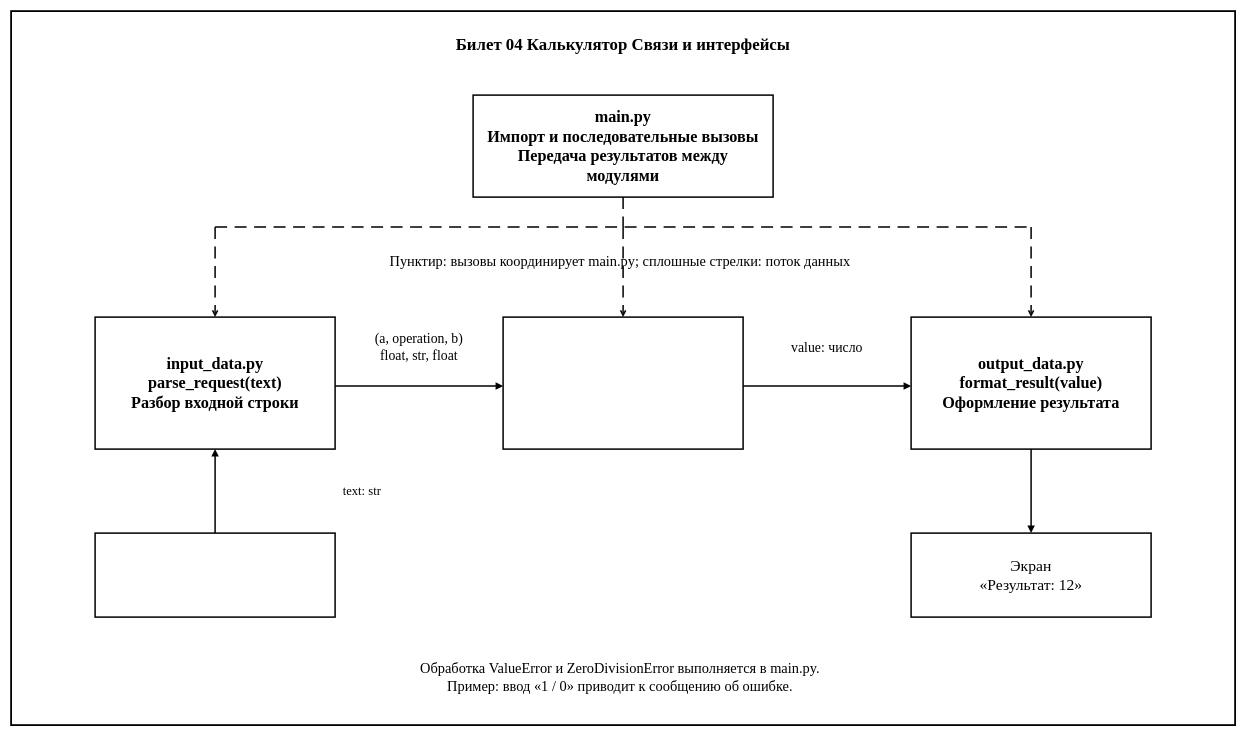
Some shapes in this 1246 by 736 pixel diagram are drawn without their labels. The shapes that lost their labels are listed below. From the top down, each one's centre as x and y in pixels, then its label:
At (x=623, y=383): "calculator.py calculate(a, operation, b) Вычисления".
At (x=215, y=575): "Исходные данные «10 + 2»".
